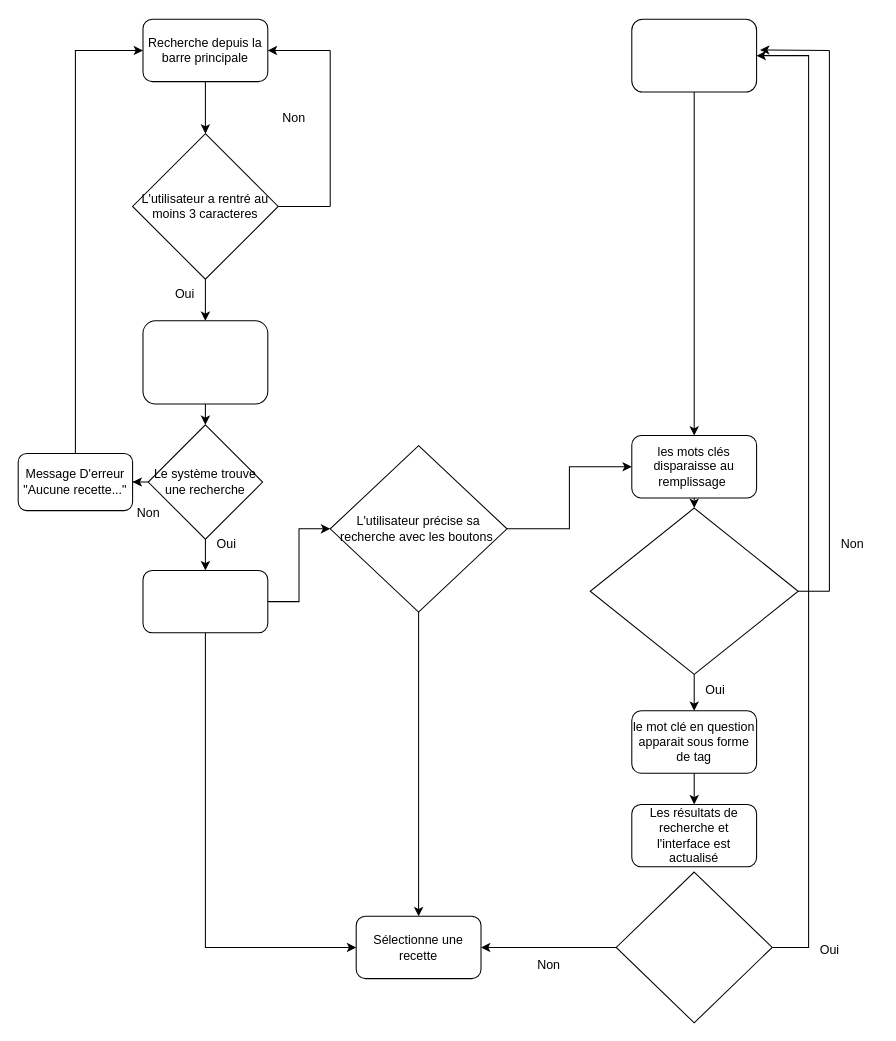
This 896x1041 diagram has some shape labels left out. Here are the shapes that lost their labels. From the top down, the box of each, then its label:
(631, 18, 757, 92): Recherche par mots clés dans les ingrédients, les ustensiles ou les appareils
(142, 320, 268, 404): Le système recherche des recettes correspondant à la recherche
(142, 569, 268, 633): l'interface est actualisé
(589, 507, 798, 674): L'utilisateur choisit un mot clé dans le champ
(615, 871, 772, 1023): L'utilisateur veux préciser sa recherche
